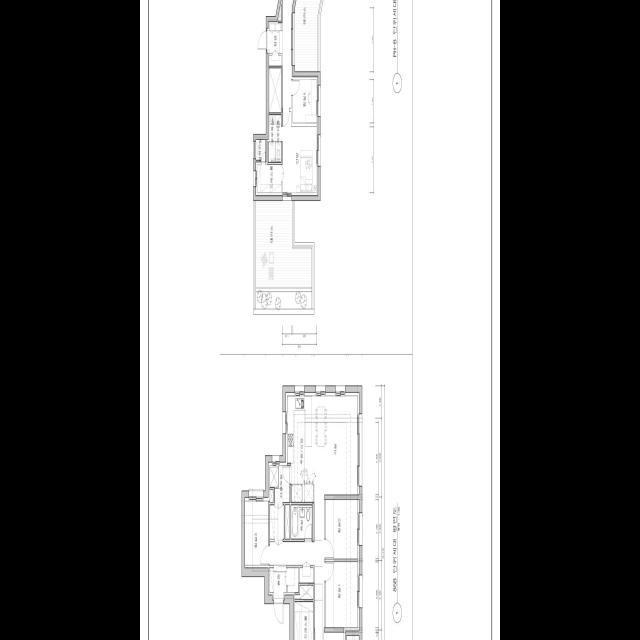background: (140, 0, 500, 640)
space_bedroom: (282, 111, 318, 194), (326, 561, 359, 630), (326, 499, 359, 558), (245, 497, 269, 567), (293, 76, 318, 122)
space_dressroom: (256, 162, 282, 194), (295, 601, 313, 640)
space_front: (267, 21, 282, 65), (268, 565, 287, 599)
space_kitchen: (286, 392, 327, 502)
space_living_room: (268, 392, 359, 632)
space_multipurpose_space: (270, 465, 290, 538)
space_other: (269, 68, 281, 112), (287, 567, 299, 592), (295, 585, 313, 599), (300, 567, 313, 582), (270, 465, 278, 487), (285, 504, 290, 538), (278, 0, 281, 20), (270, 489, 273, 502)
space_outdoor_room: (256, 139, 266, 159)
space_toilet: (291, 505, 312, 538), (268, 114, 281, 162)
